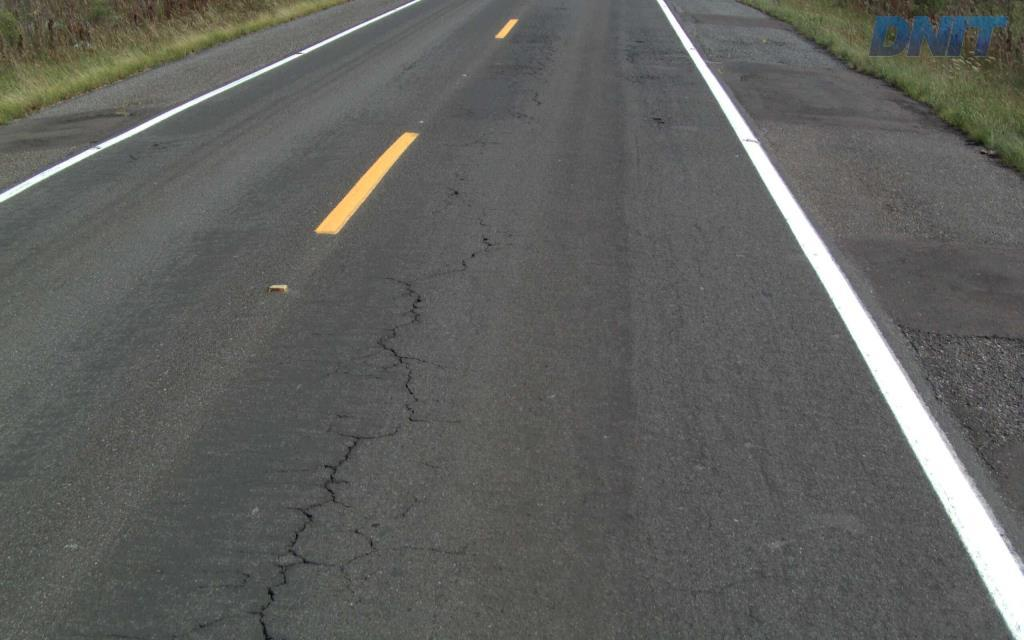crack: (245, 502, 335, 639), (311, 431, 375, 510), (376, 325, 426, 402)
